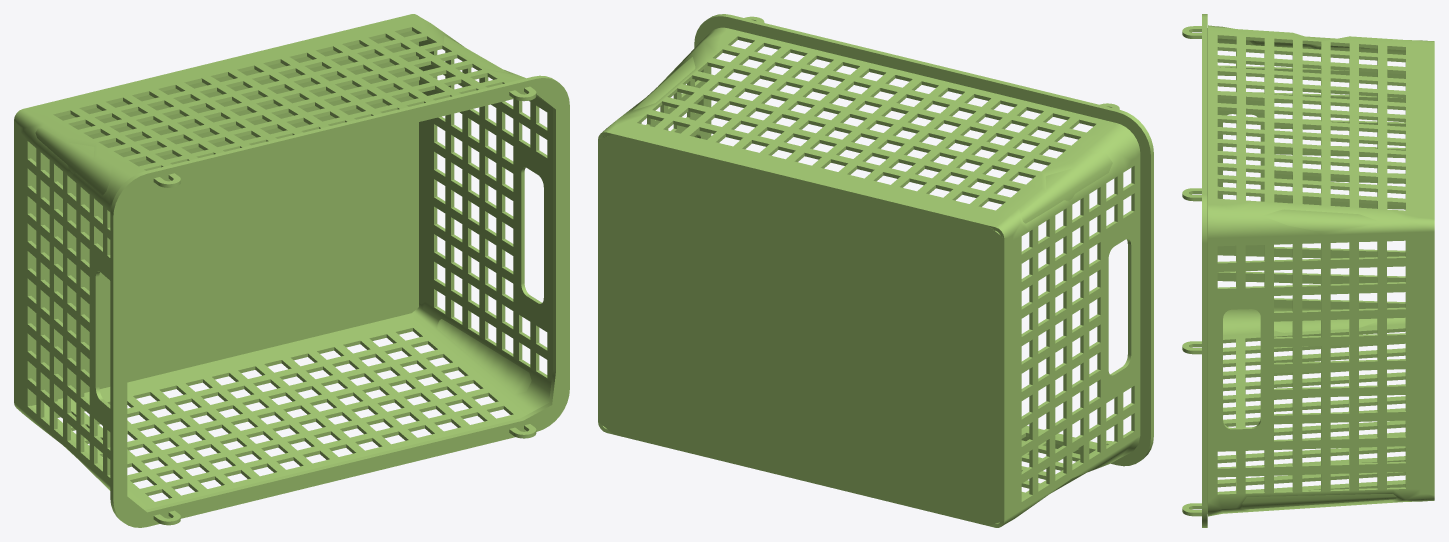
Rendered from seria_basket_body.obj.
3 renders of one model, left to right at view 1: azimuth 30°, elevation 25°; view 2: azimuth 150°, elevation 25°; view 3: azimuth 270°, elevation 25°, orthographic. The views are drawn at different scales.
Bounding box in the file's own units: 261 × 193 × 134.
